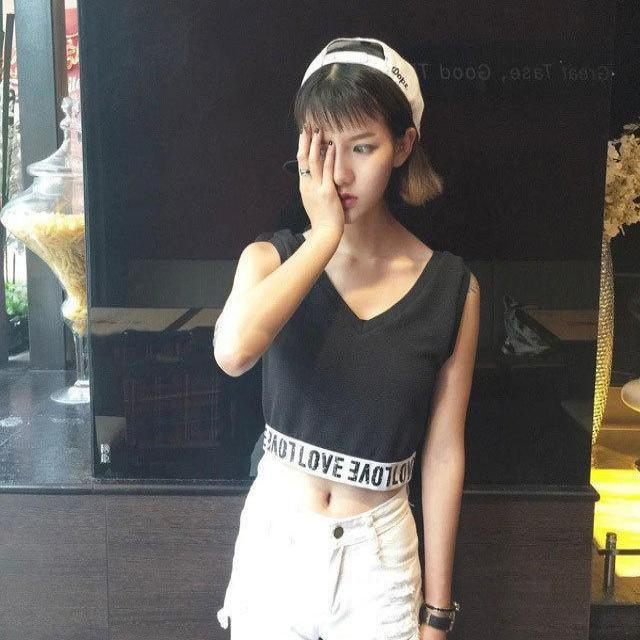shorts: (217, 477, 422, 638)
vest: (261, 233, 467, 484)
